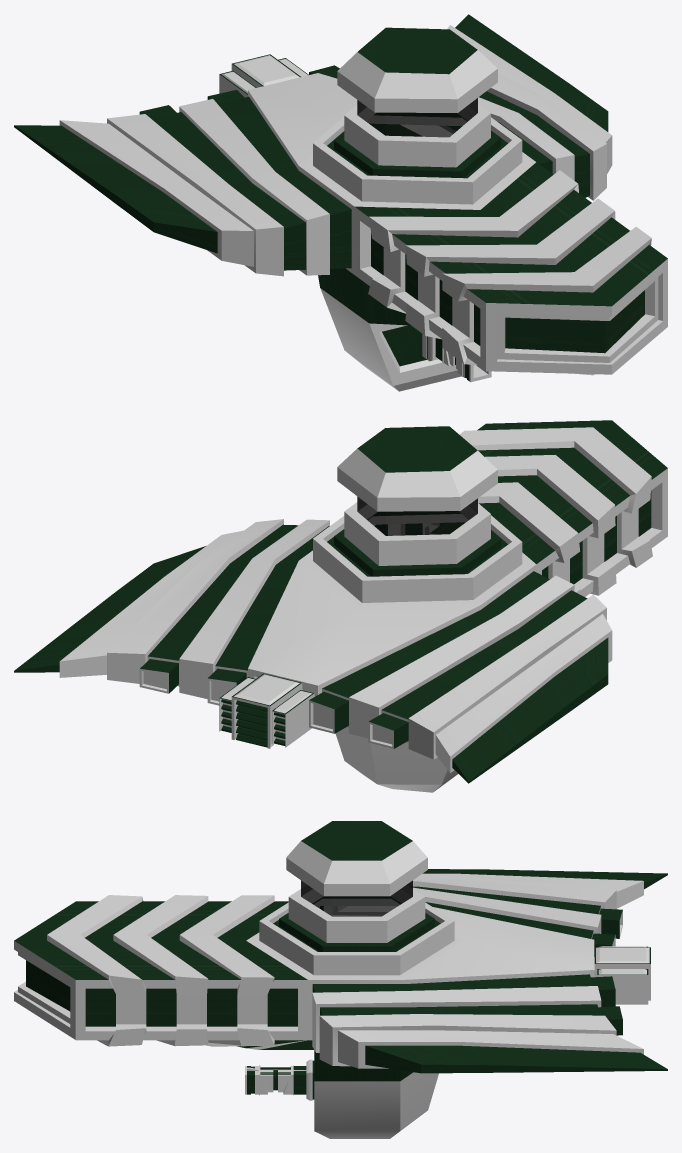
Rendered from DEB.fbx.
3 renders of one model, top to bottom at view 1: azimuth 30°, elevation 25°; view 2: azimuth 150°, elevation 25°; view 3: azimuth 270°, elevation 25°, orthographic. The views are drawn at different scales.
Parts seen in each view (by area): view 1: DEB; view 2: DEB; view 3: DEB.
Part boxes in pixels (box(x1,y1,x2,y2)): DEB: box(14, 14, 667, 391); DEB: box(14, 420, 667, 792); DEB: box(14, 821, 667, 1138).
Bounding box in the file's own units: 6.01 × 4.06 × 8.49.
